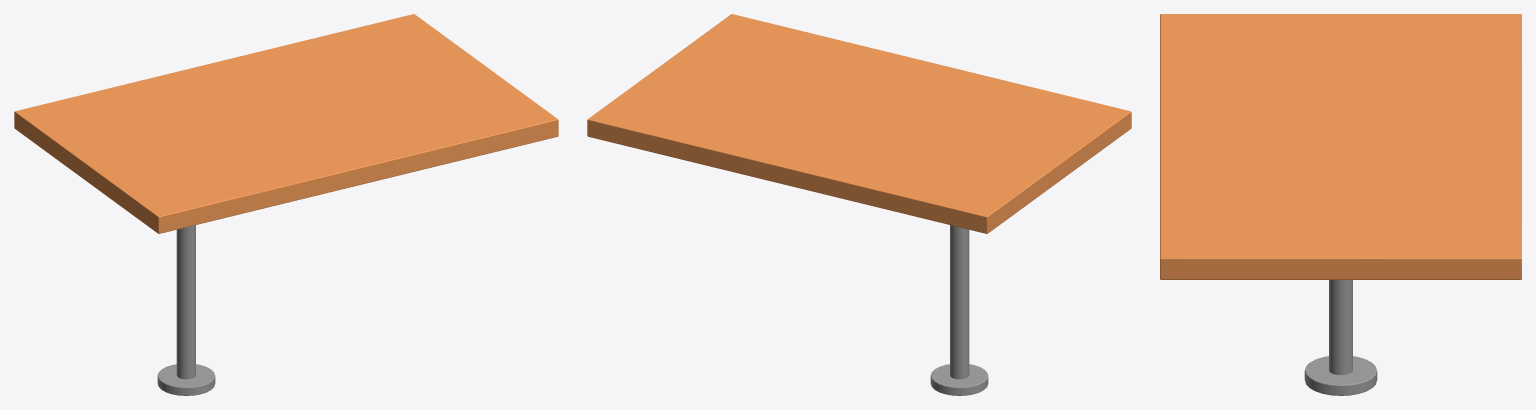
The model's file is table.obj.
3 views of the same model, side by side, from view 1: azimuth 30°, elevation 25°; view 2: azimuth 150°, elevation 25°; view 3: azimuth 270°, elevation 25° (orthographic). The views are drawn at different scales.
Visible parts, largest first — view 1: SketchUp.003_ID22; view 2: SketchUp.003_ID22; view 3: SketchUp.003_ID22.
Boxes of the visible parts, x1=… form: SketchUp.003_ID22: x1=14, y1=14, x2=558, y2=395; SketchUp.003_ID22: x1=587, y1=14, x2=1131, y2=395; SketchUp.003_ID22: x1=1160, y1=14, x2=1521, y2=395.
Bounding box in the file's own units: 1.22 × 0.7112 × 0.762.
